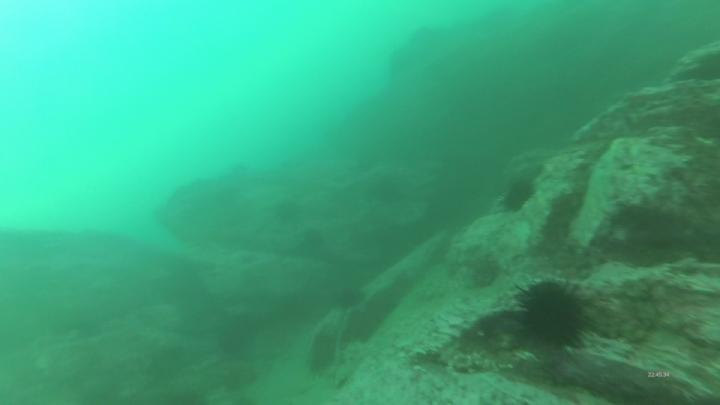echinus: (509, 280, 596, 354), (496, 178, 538, 215), (274, 200, 306, 231), (335, 287, 370, 314), (300, 226, 329, 252)
